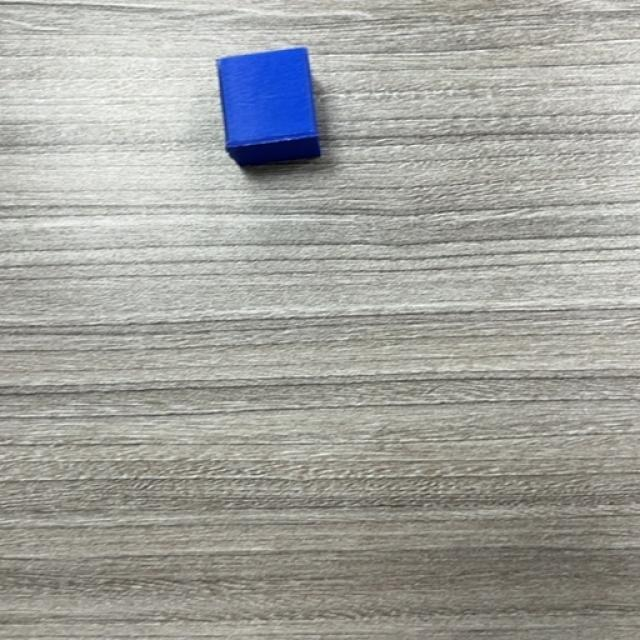Azul: (215, 48, 324, 168)
